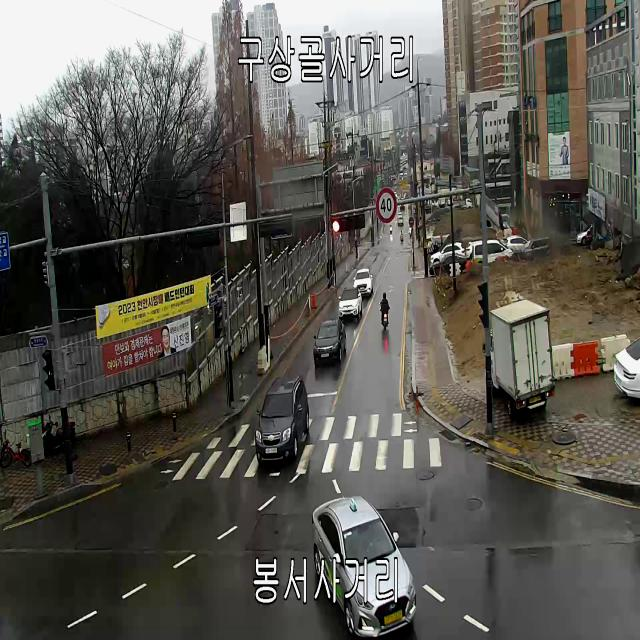Car: (312, 495, 417, 640), (255, 375, 309, 465), (613, 336, 640, 399), (313, 320, 346, 366), (472, 240, 514, 263), (429, 253, 467, 276), (338, 288, 362, 322), (430, 243, 466, 265), (576, 223, 603, 245), (524, 235, 552, 255), (353, 269, 373, 296), (504, 235, 529, 251), (426, 208, 450, 223), (466, 240, 482, 259), (454, 198, 472, 208), (437, 197, 445, 207), (400, 202, 405, 211), (425, 205, 431, 212), (448, 197, 453, 205), (398, 217, 403, 225), (398, 212, 402, 219)
Motorcycle: (376, 289, 393, 333), (400, 229, 402, 242), (390, 224, 392, 235)
Truck: (483, 300, 555, 416)
